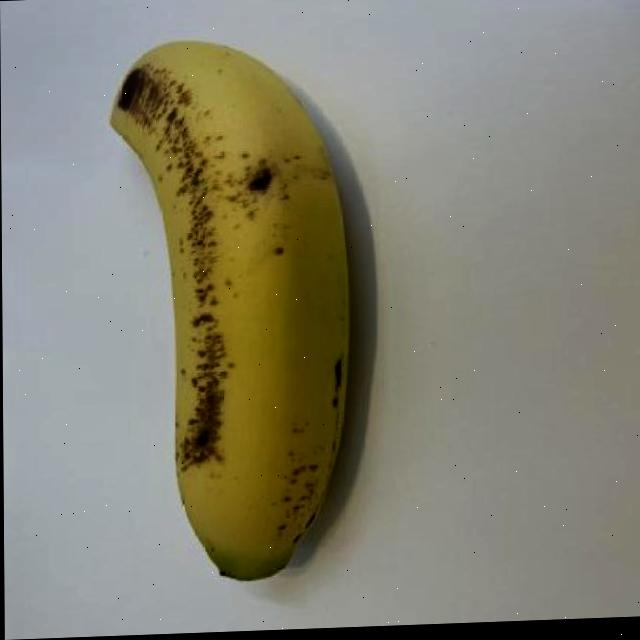banana: (106, 31, 355, 584)
